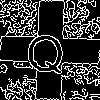Q: (25, 25, 66, 76)
